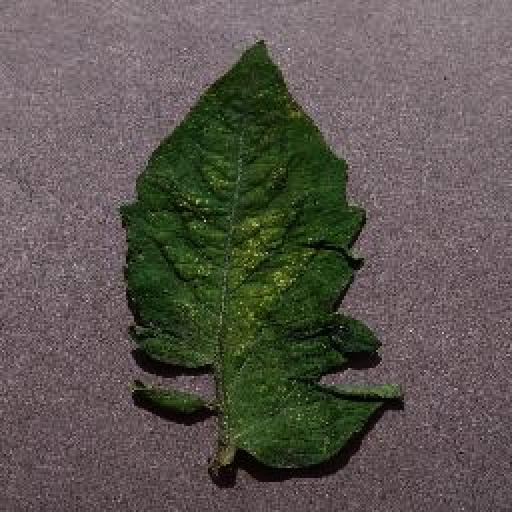disease_tomato: (120, 36, 404, 470)
